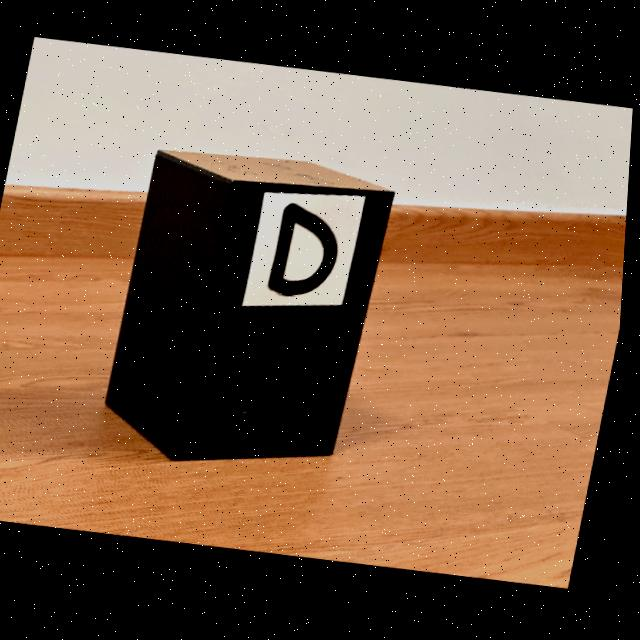D: (271, 205, 341, 297)
